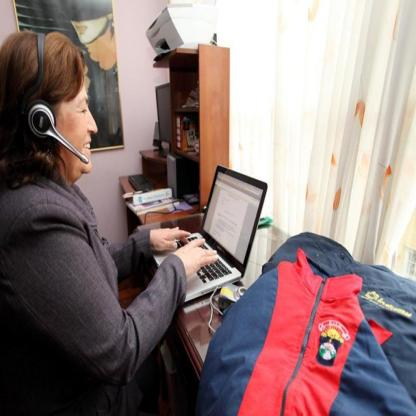board: (152, 166, 268, 304)
